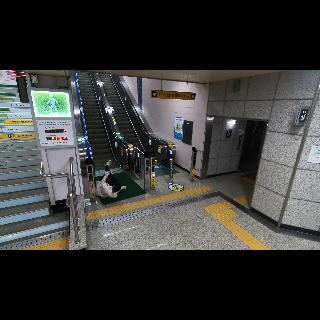anomaly: (94, 160, 128, 198)
